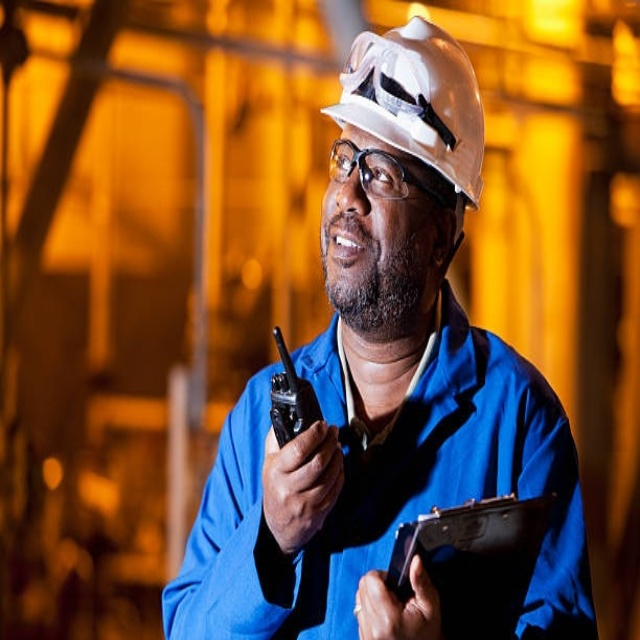Gafas: (328, 139, 456, 206)
Sin_guantes: (260, 411, 345, 555), (352, 554, 445, 640)
Sin_mascara: (323, 220, 375, 301)
